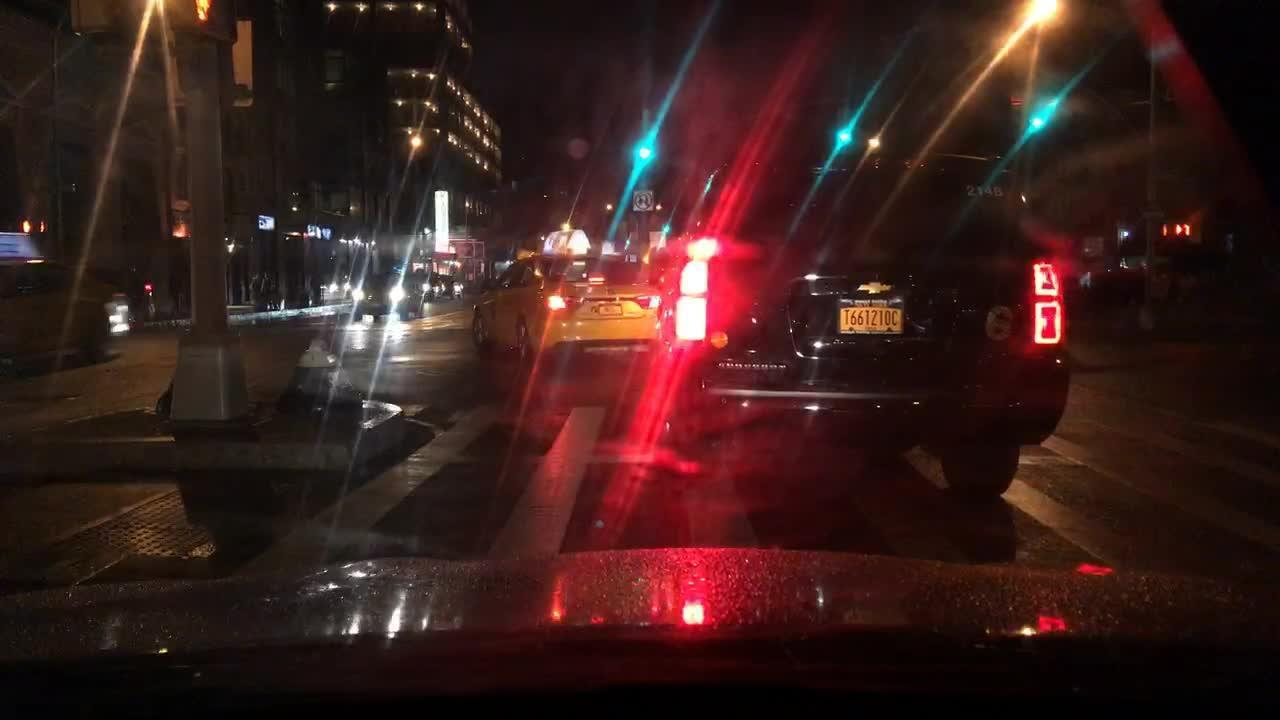chevrolet: (852, 272, 913, 296)
